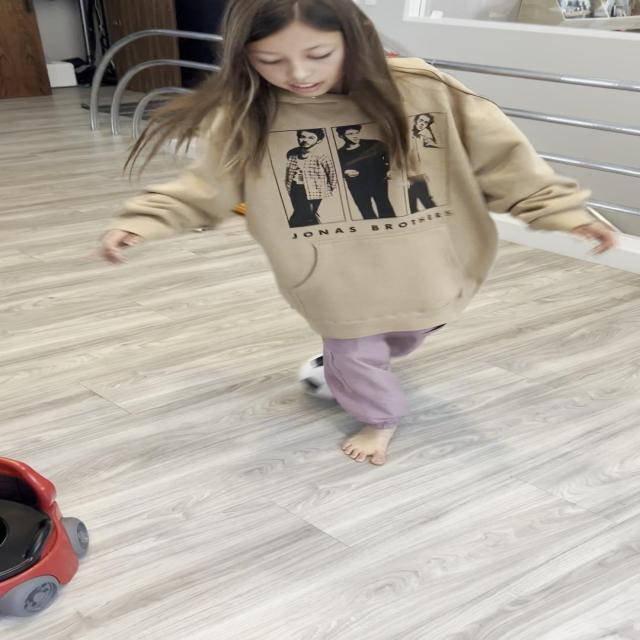Soccer Ball: (297, 351, 384, 402)
